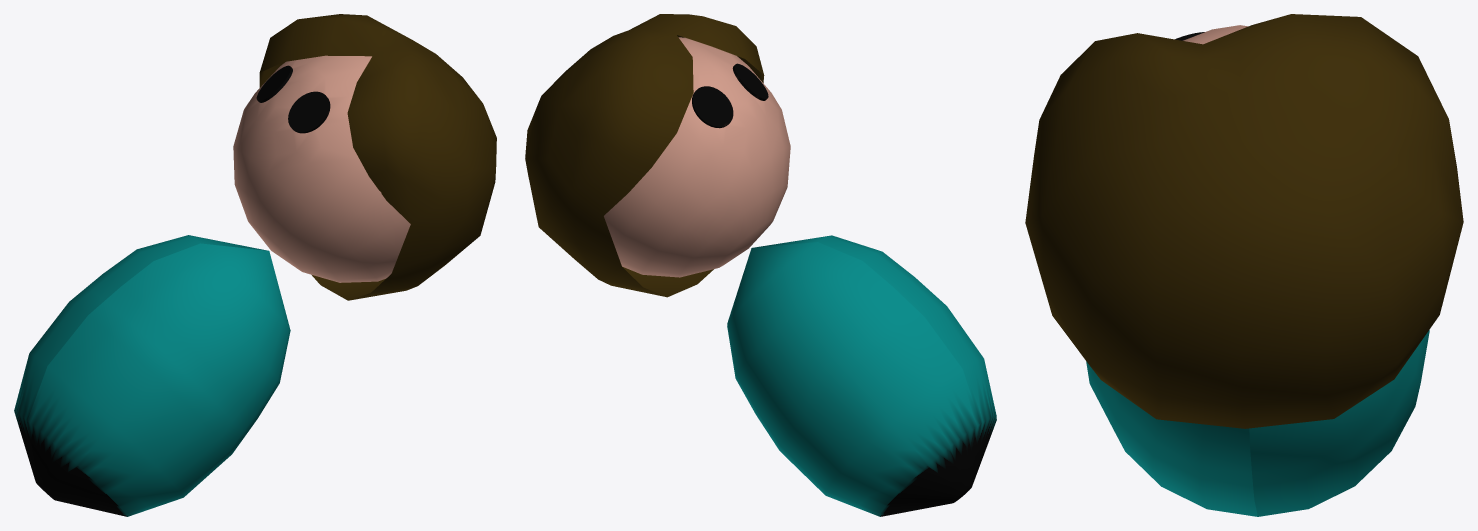
The model's file is SM_Baby.fbx.
The picture shows the model from 3 angles, left to right: view 1: azimuth 30°, elevation 25°; view 2: azimuth 150°, elevation 25°; view 3: azimuth 270°, elevation 25°; orthographic projection. The views are drawn at different scales.
Parts seen in each view (by area): view 1: SM_Hair_baby_1, SM_Body_baby_1; view 2: SM_Hair_baby_1, SM_Body_baby_1; view 3: SM_Hair_baby_1, SM_Body_baby_1.
Boxes of the visible parts, x1,y1,x2,y2 form: SM_Hair_baby_1: [233, 14, 496, 300]; SM_Body_baby_1: [14, 235, 290, 516]; SM_Hair_baby_1: [525, 14, 790, 297]; SM_Body_baby_1: [727, 235, 996, 516]; SM_Hair_baby_1: [1025, 14, 1463, 428]; SM_Body_baby_1: [1086, 330, 1429, 516].
Bounding box in the file's own units: 0.3173 × 0.2906 × 0.1745.
